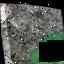Morning glory: (4, 0, 64, 64)
